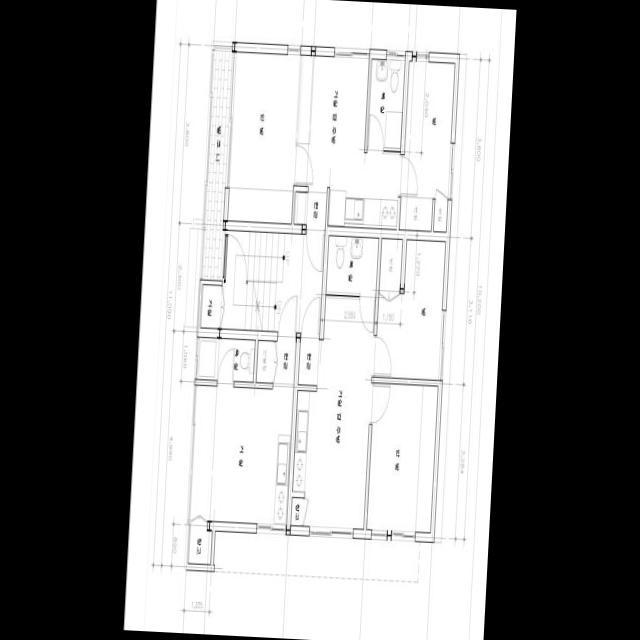background: (123, 0, 517, 640)
space_balconi: (203, 51, 232, 280)
space_bedroom: (227, 52, 300, 224), (366, 383, 437, 532), (374, 239, 445, 380), (399, 61, 454, 232)
space_front: (256, 338, 296, 384), (294, 192, 327, 230), (298, 339, 319, 386)
space_kitchen: (328, 151, 400, 230), (257, 433, 291, 525), (292, 391, 316, 493)
space_living_room: (302, 298, 375, 529), (190, 383, 293, 524), (296, 56, 369, 193)
space_other: (188, 526, 211, 564), (200, 285, 220, 328), (290, 498, 303, 526)
space_staircase: (220, 231, 324, 334)
space_toilet: (367, 59, 405, 149), (326, 236, 379, 295), (197, 338, 255, 382)
